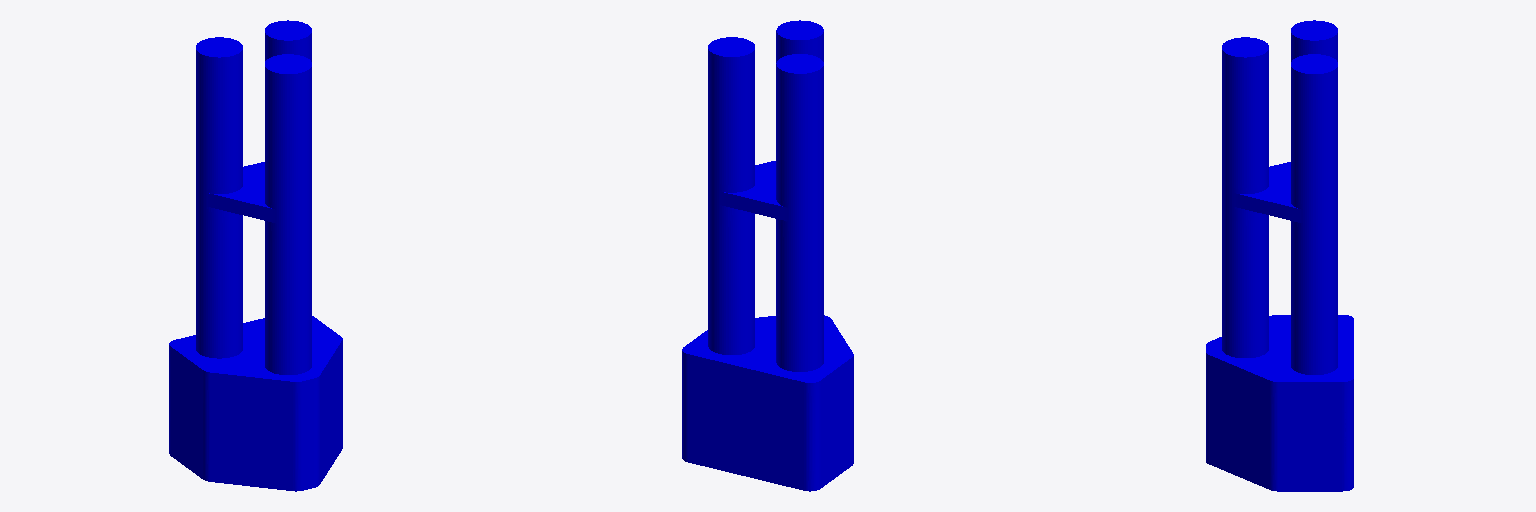
URDF robot description (board2_block10):
<?xml version="1.0"?>
<robot name="board2_block10">
    <link name="board2_block10">
        <visual>
            <origin xyz="0 0 0 " rpy=" 0 0 0"/>
            <geometry>
                <mesh filename="../meshes/SIMO_Board2_Block10.stl" scale="0.001 0.001 0.001"/>
            </geometry>
            <material name="red">
                <color rgba="0.0 0.0 1.0 1.0"/>
            </material>
        </visual>
        <collision>
            <origin xyz="0 0 0" rpy="0 0 0"/>
            <geometry>
                <mesh filename="../meshes/SIMO_Board2_Block10.stl" scale="0.001 0.001 0.001"/>
            </geometry>
        </collision>
    </link>
</robot>

--- What the picture shows (computed from the rendered views, not written in the file) ---
The picture shows the robot from 3 angles, left to right: view 1: azimuth 30°, elevation 25°; view 2: azimuth 150°, elevation 25°; view 3: azimuth 270°, elevation 25°; orthographic projection.
Robot: board2_block10 — 1 links, 0 joints (none); root link board2_block10; default pose: every joint at zero.
Visible links, largest first — view 1: board2_block10; view 2: board2_block10; view 3: board2_block10.
Boxes of the visible links, x1=… form: board2_block10: x1=169, y1=20, x2=342, y2=491; board2_block10: x1=682, y1=20, x2=853, y2=491; board2_block10: x1=1206, y1=20, x2=1353, y2=491.
Size in the robot's own frame: 0.0528 by 0.0493 by 0.15 metres.
1 mesh visuals loaded from 1 distinct referenced files (1 ASCII STL).